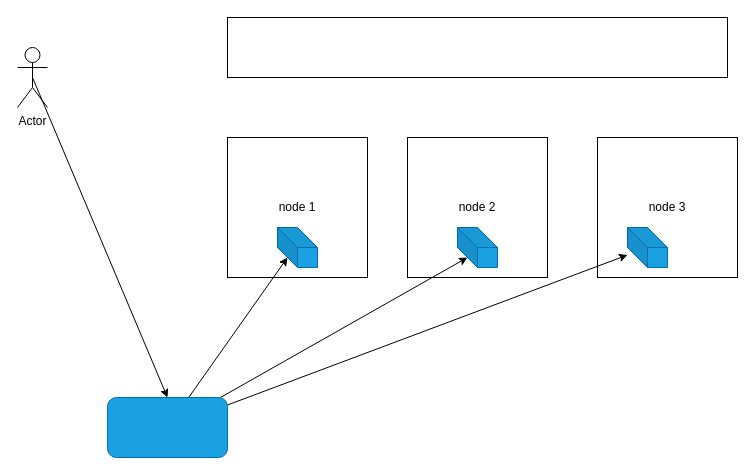
Some shapes in this 755 by 475 pixel diagram are drawn without their labels. Each missing label, with the centre of its shape:
controlplane: the point at 477,47
Create Daemonset called fluentd: the point at 167,427
